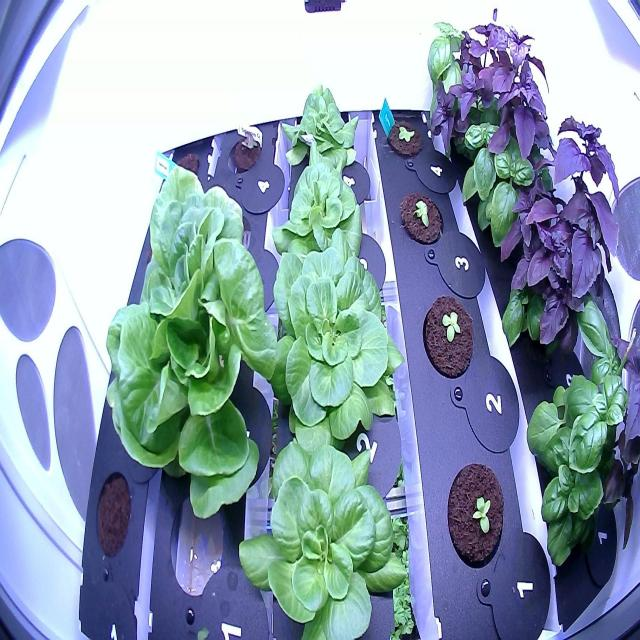Ready: (91, 158, 284, 523)
empty_pod: (161, 486, 231, 600)
germination: (222, 120, 270, 184)
pod: (82, 462, 139, 566), (164, 138, 206, 196)
young: (230, 418, 415, 640), (249, 238, 415, 458), (268, 153, 370, 280), (274, 74, 366, 183), (441, 450, 512, 584), (418, 288, 478, 388), (396, 185, 446, 253), (381, 112, 427, 165)
